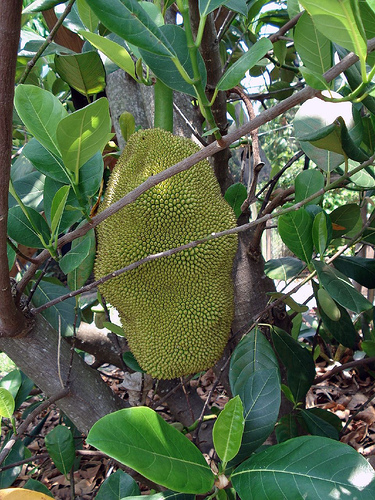jackfruit: (95, 127, 238, 380)
